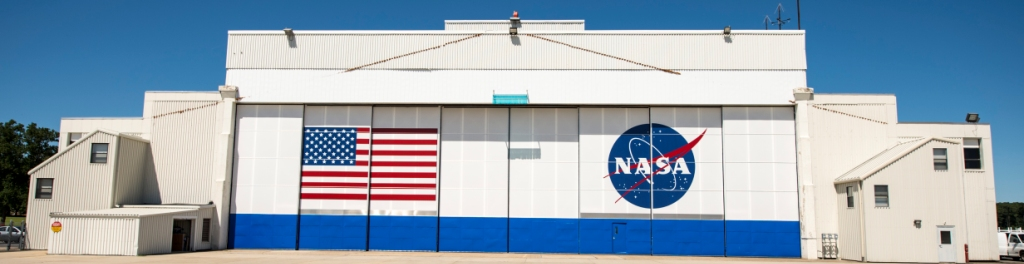NASA: (601, 119, 713, 209)
